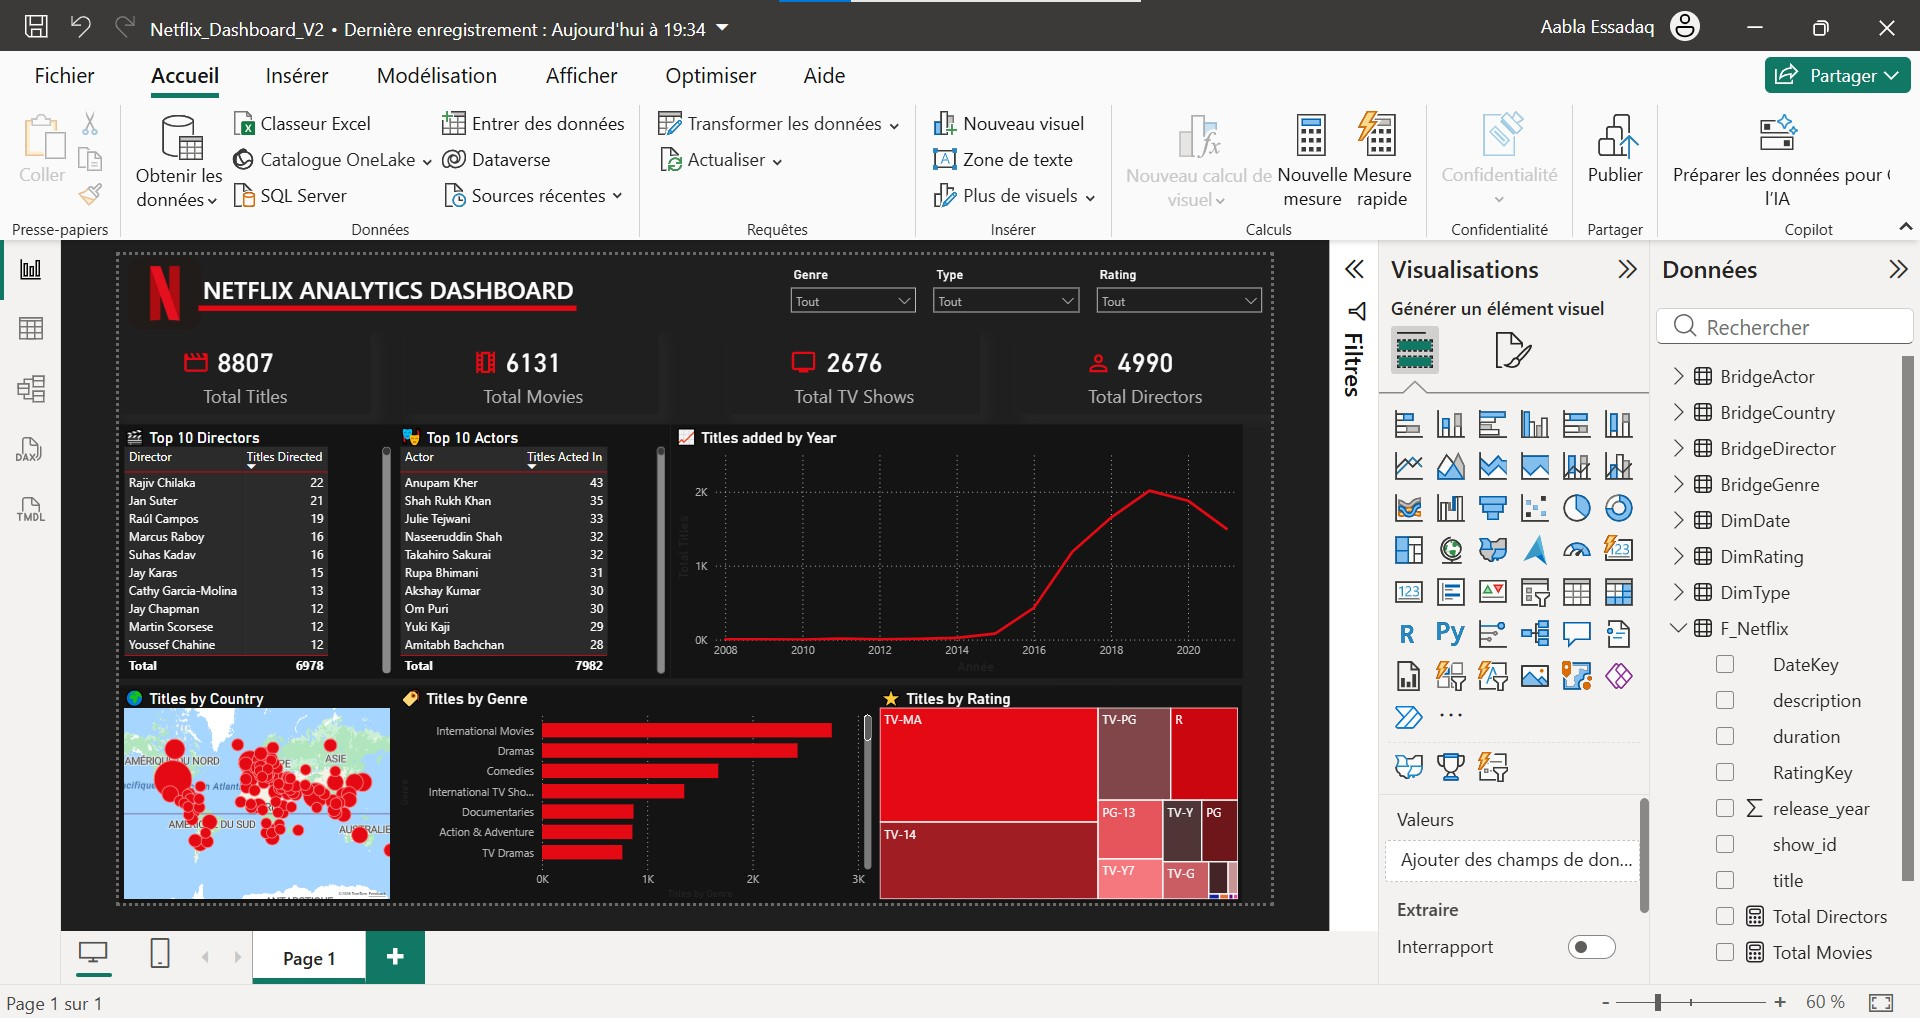

The dashboard page shown, as its layout file describes it:
{"tool":"powerbi","page":{"name":"Page 1","canvas":[1280,720],"ordinal":0},"visuals":[{"type":"card","fields":{"Values":["F_Netflix.Total Titles"]},"box":[0,85,280,91.7],"z":0},{"type":"card","fields":{"Values":["F_Netflix.Total Movies"]},"box":[320,85,280,91.7],"z":1000},{"type":"card","fields":{"Values":["F_Netflix.Total TV Shows"]},"box":[676.7,85,280,91.7],"z":2000},{"type":"card","fields":{"Values":["F_Netflix.Total Directors"]},"box":[1000,85,280,91.7],"z":3000},{"type":"tableEx","title":"🎬 Top 10 Directors","fields":{"Values":["BridgeDirector.Director","BridgeDirector.Titles Directed"]},"box":[0,188.3,306.7,281.7],"z":4000},{"type":"tableEx","title":"🎭 Top 10 Actors","fields":{"Values":["BridgeActor.Actor","BridgeActor.Titles Acted In"]},"box":[306.7,188.3,305,281.7],"z":5000},{"type":"lineChart","title":"📈 Titles added by Year","fields":{"Category":["DimDate.Date.Variation.Hiérarchie de dates.Année","DimDate.Date.Variation.Hiérarchie de dates.Trimestre","DimDate.Date.Variation.Hiérarchie de dates.Mois","DimDate.Date.Variation.Hiérarchie de dates.Jour"],"Y":["F_Netflix.Total Titles"]},"box":[613.3,188.3,635,281.7],"z":6000},{"type":"azureMap","title":"🌍 Titles by Country ","fields":{"Category":["BridgeCountry.Country"],"Size":["BridgeCountry.Titles by Country"]},"box":[0,478,306,242],"z":7000},{"type":"clusteredBarChart","title":"🏷️ Titles by Genre","fields":{"Category":["BridgeGenre.Genre"],"Y":["BridgeGenre.Titles by Genre"]},"box":[306,478,534,242],"z":8000},{"type":"treemap","title":"⭐ Titles by Rating","fields":{"Group":["DimRating.Rating"],"Values":["F_Netflix.Total Titles"]},"box":[840,478,408,242],"z":9000},{"type":"slicer","fields":{"Values":["DimRating.Rating"]},"box":[1076.7,8.3,203.3,63.3],"z":10000},{"type":"slicer","fields":{"Values":["DimType.Type"]},"box":[895,8.3,181.7,63.3],"z":11000},{"type":"slicer","fields":{"Values":["BridgeGenre.Genre"]},"box":[736.7,8.3,158.3,63.3],"z":12000},{"type":"image","box":[0,0,101.7,85],"z":13000},{"type":"textbox","box":[88.3,15,525,58.3],"z":14000},{"type":"shape","box":[88.3,45,420,28.3],"z":15000},{"type":"image","box":[70,98.8,31.2,42.5],"z":16000},{"type":"image","box":[391.2,98.8,31.2,42.5],"z":17000},{"type":"image","box":[745,98.8,31.2,41.2],"z":18000},{"type":"image","box":[1073.8,100,30,41.2],"z":19000}]}

Visuals, with their boxes on the page's 1280x720 design canvas (x1, y1, x2, y2). These are canvas units, not pixel positions in the 1920x1018 screenshot, which may show the page scaled, cropped or inside an application window:
card - F_Netflix.Total Titles: (x1=0, y1=85, x2=280, y2=177)
card - F_Netflix.Total Movies: (x1=320, y1=85, x2=600, y2=177)
card - F_Netflix.Total TV Shows: (x1=677, y1=85, x2=957, y2=177)
card - F_Netflix.Total Directors: (x1=1000, y1=85, x2=1280, y2=177)
"🎬 Top 10 Directors" tableEx: (x1=0, y1=188, x2=307, y2=470)
"🎭 Top 10 Actors" tableEx: (x1=307, y1=188, x2=612, y2=470)
"📈 Titles added by Year" lineChart: (x1=613, y1=188, x2=1248, y2=470)
"🌍 Titles by Country " azureMap: (x1=0, y1=478, x2=306, y2=720)
"🏷️ Titles by Genre" clusteredBarChart: (x1=306, y1=478, x2=840, y2=720)
"⭐ Titles by Rating" treemap: (x1=840, y1=478, x2=1248, y2=720)
slicer - DimRating.Rating: (x1=1077, y1=8, x2=1280, y2=72)
slicer - DimType.Type: (x1=895, y1=8, x2=1077, y2=72)
slicer - BridgeGenre.Genre: (x1=737, y1=8, x2=895, y2=72)
image: (x1=0, y1=0, x2=102, y2=85)
textbox: (x1=88, y1=15, x2=613, y2=73)
shape: (x1=88, y1=45, x2=508, y2=73)
image: (x1=70, y1=99, x2=101, y2=141)
image: (x1=391, y1=99, x2=422, y2=141)
image: (x1=745, y1=99, x2=776, y2=140)
image: (x1=1074, y1=100, x2=1104, y2=141)
